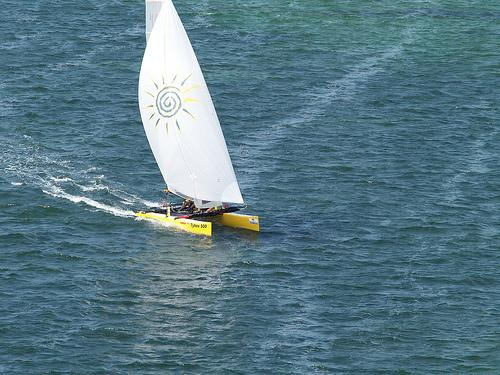Ship: (138, 5, 261, 235)
